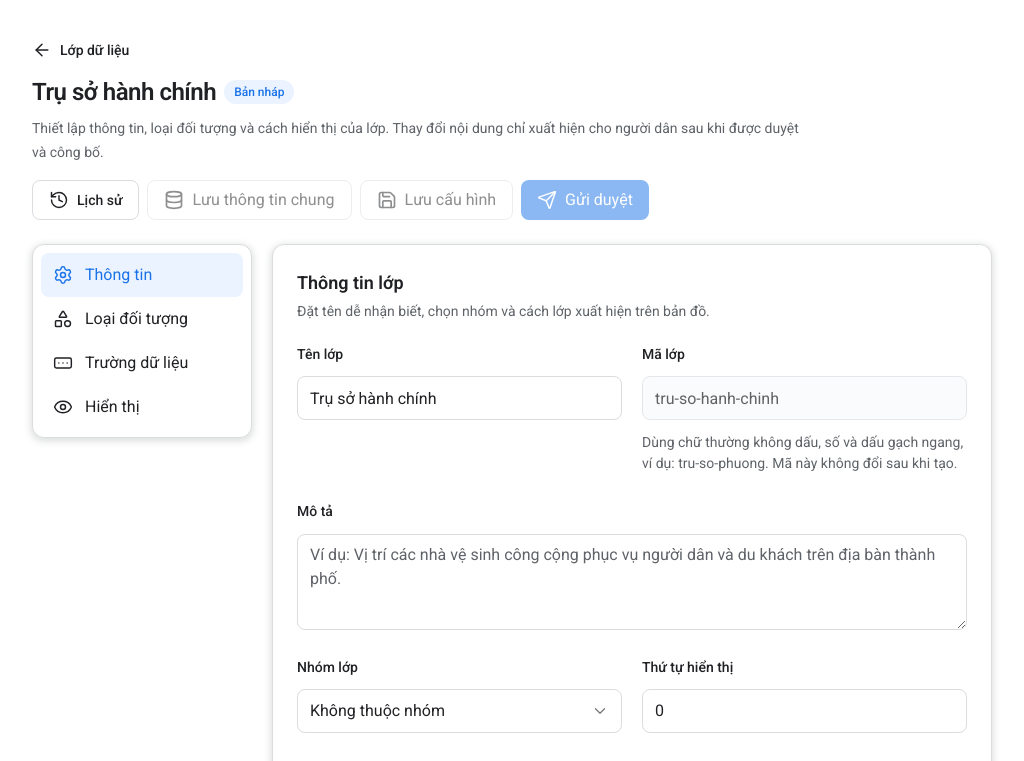
Test: layer configuration editor › runs server impact first and blocks revision replacement when feature data is incompatible
Replace the text in the field labelled "Tên lớp" with "Trụ sở thành phố" at (460, 398), box [297,376,622,420]
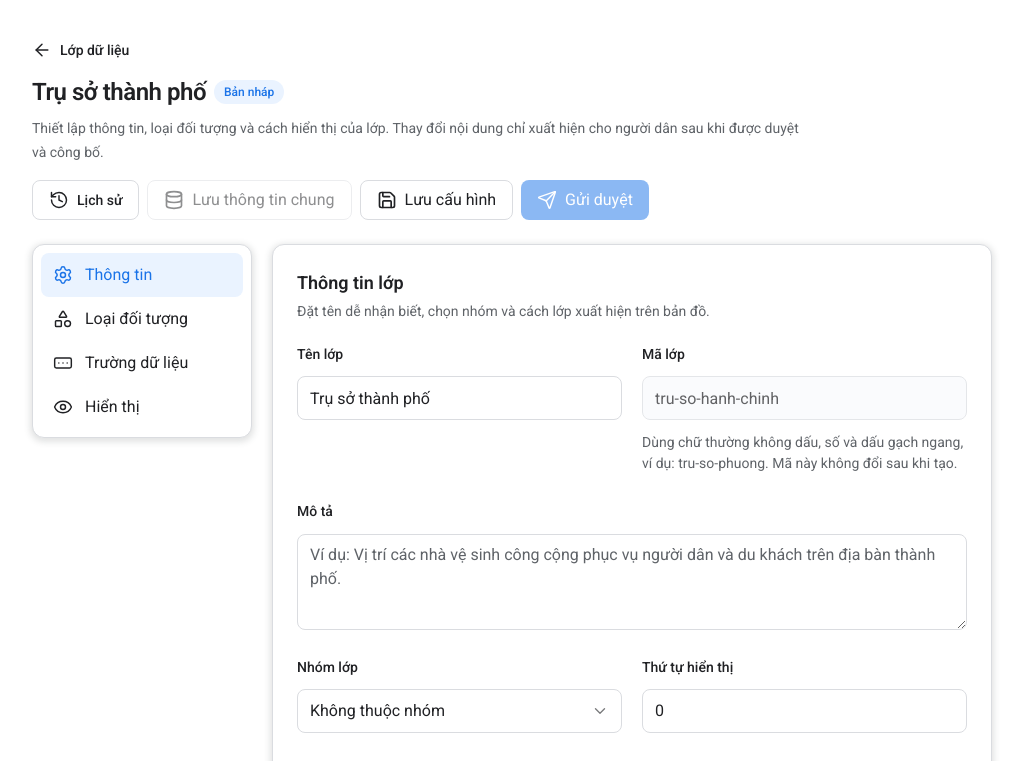
Click the button "Lưu cấu hình" at (436, 200), box [360,180,513,220]
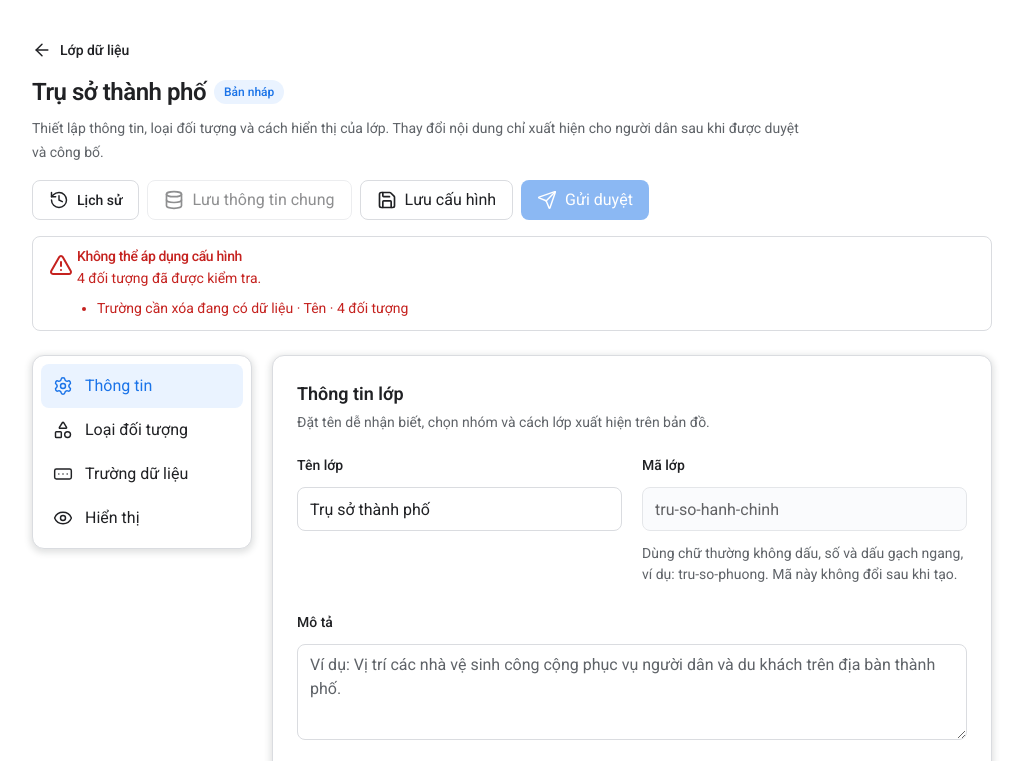
Expected: the heading "Không thể áp dụng cấu hình" is shown, [77,248,242,264]
Expected: the list item "Trường cần xóa đang có dữ liệu · Tên · 4 đối tượng" is shown, [97,300,408,316]
